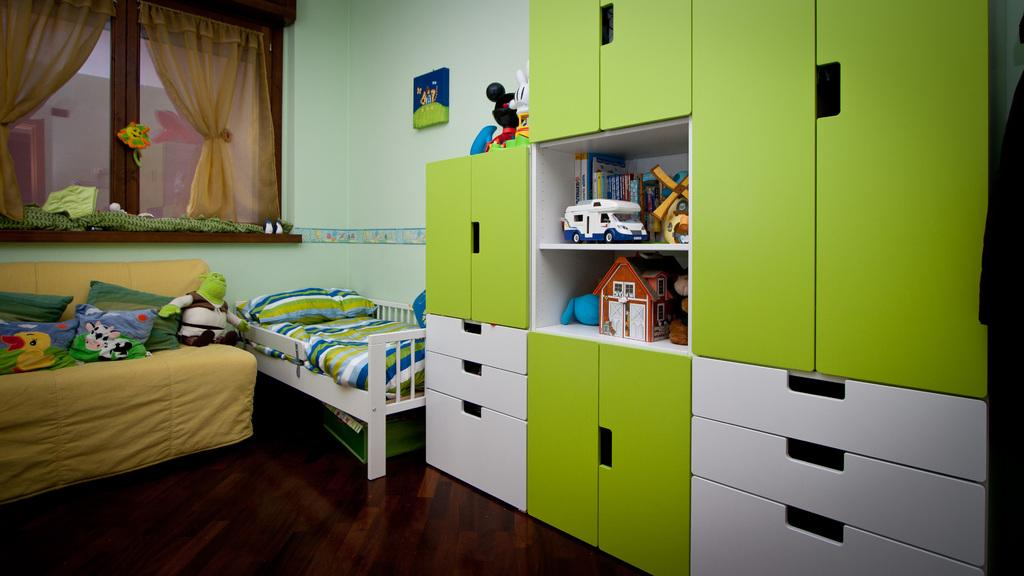cabinet_door: (820, 10, 990, 390), (695, 20, 827, 370), (718, 433, 1000, 553), (708, 368, 1010, 462), (696, 484, 961, 576), (599, 355, 697, 560), (526, 337, 590, 536), (472, 156, 530, 322), (602, 7, 684, 120), (435, 396, 523, 491), (424, 163, 476, 321), (531, 4, 601, 118), (426, 356, 526, 408), (430, 322, 530, 372)
handle: (774, 433, 860, 488), (782, 499, 860, 552), (808, 40, 851, 130), (776, 364, 856, 407), (590, 420, 622, 477), (454, 396, 496, 423), (594, 4, 616, 50), (465, 216, 483, 262), (460, 358, 486, 380), (460, 318, 486, 336)
